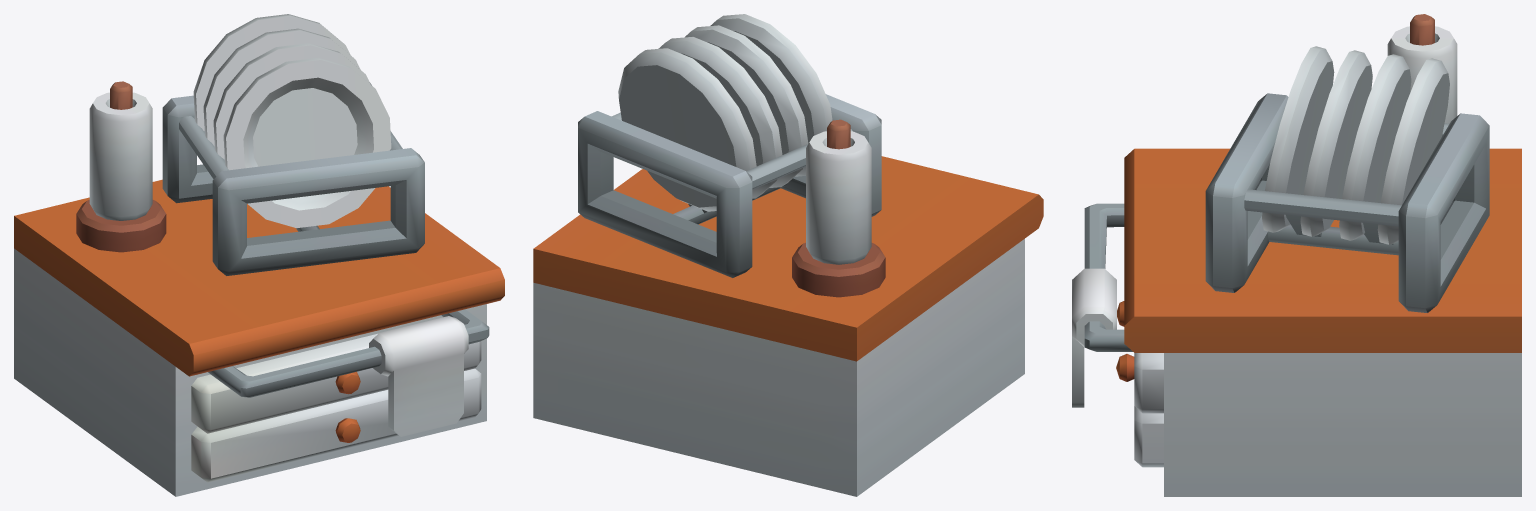
The model's file is kay-bancada.gltf.
3 renders of one model, left to right at view 1: azimuth 30°, elevation 25°; view 2: azimuth 150°, elevation 25°; view 3: azimuth 270°, elevation 25°, orthographic. The views are drawn at different scales.
Parts seen in each view (by area): view 1: kitchencounter_straight_A_decorated; view 2: kitchencounter_straight_A_decorated; view 3: kitchencounter_straight_A_decorated.
Boxes of the visible parts, x1=… form: kitchencounter_straight_A_decorated: x1=14, y1=14, x2=504, y2=496; kitchencounter_straight_A_decorated: x1=533, y1=14, x2=1043, y2=496; kitchencounter_straight_A_decorated: x1=1072, y1=14, x2=1521, y2=496.
Size of the model in its own units: 1.3 by 1.36 by 1.47.
1 material, 1 textured.
